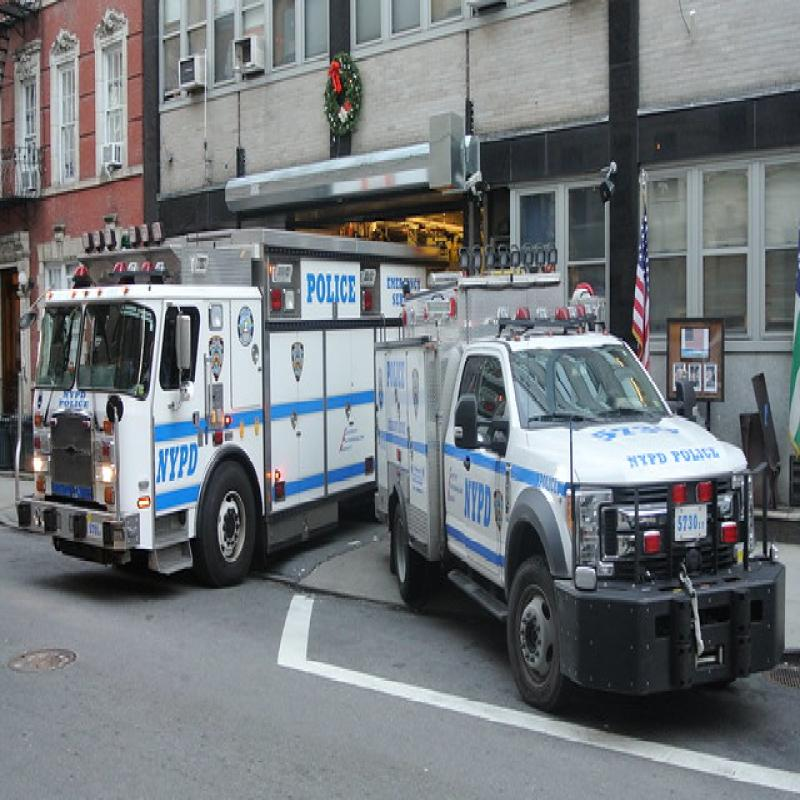AmbulanceSiren: (490, 293, 602, 336), (68, 255, 167, 288)
